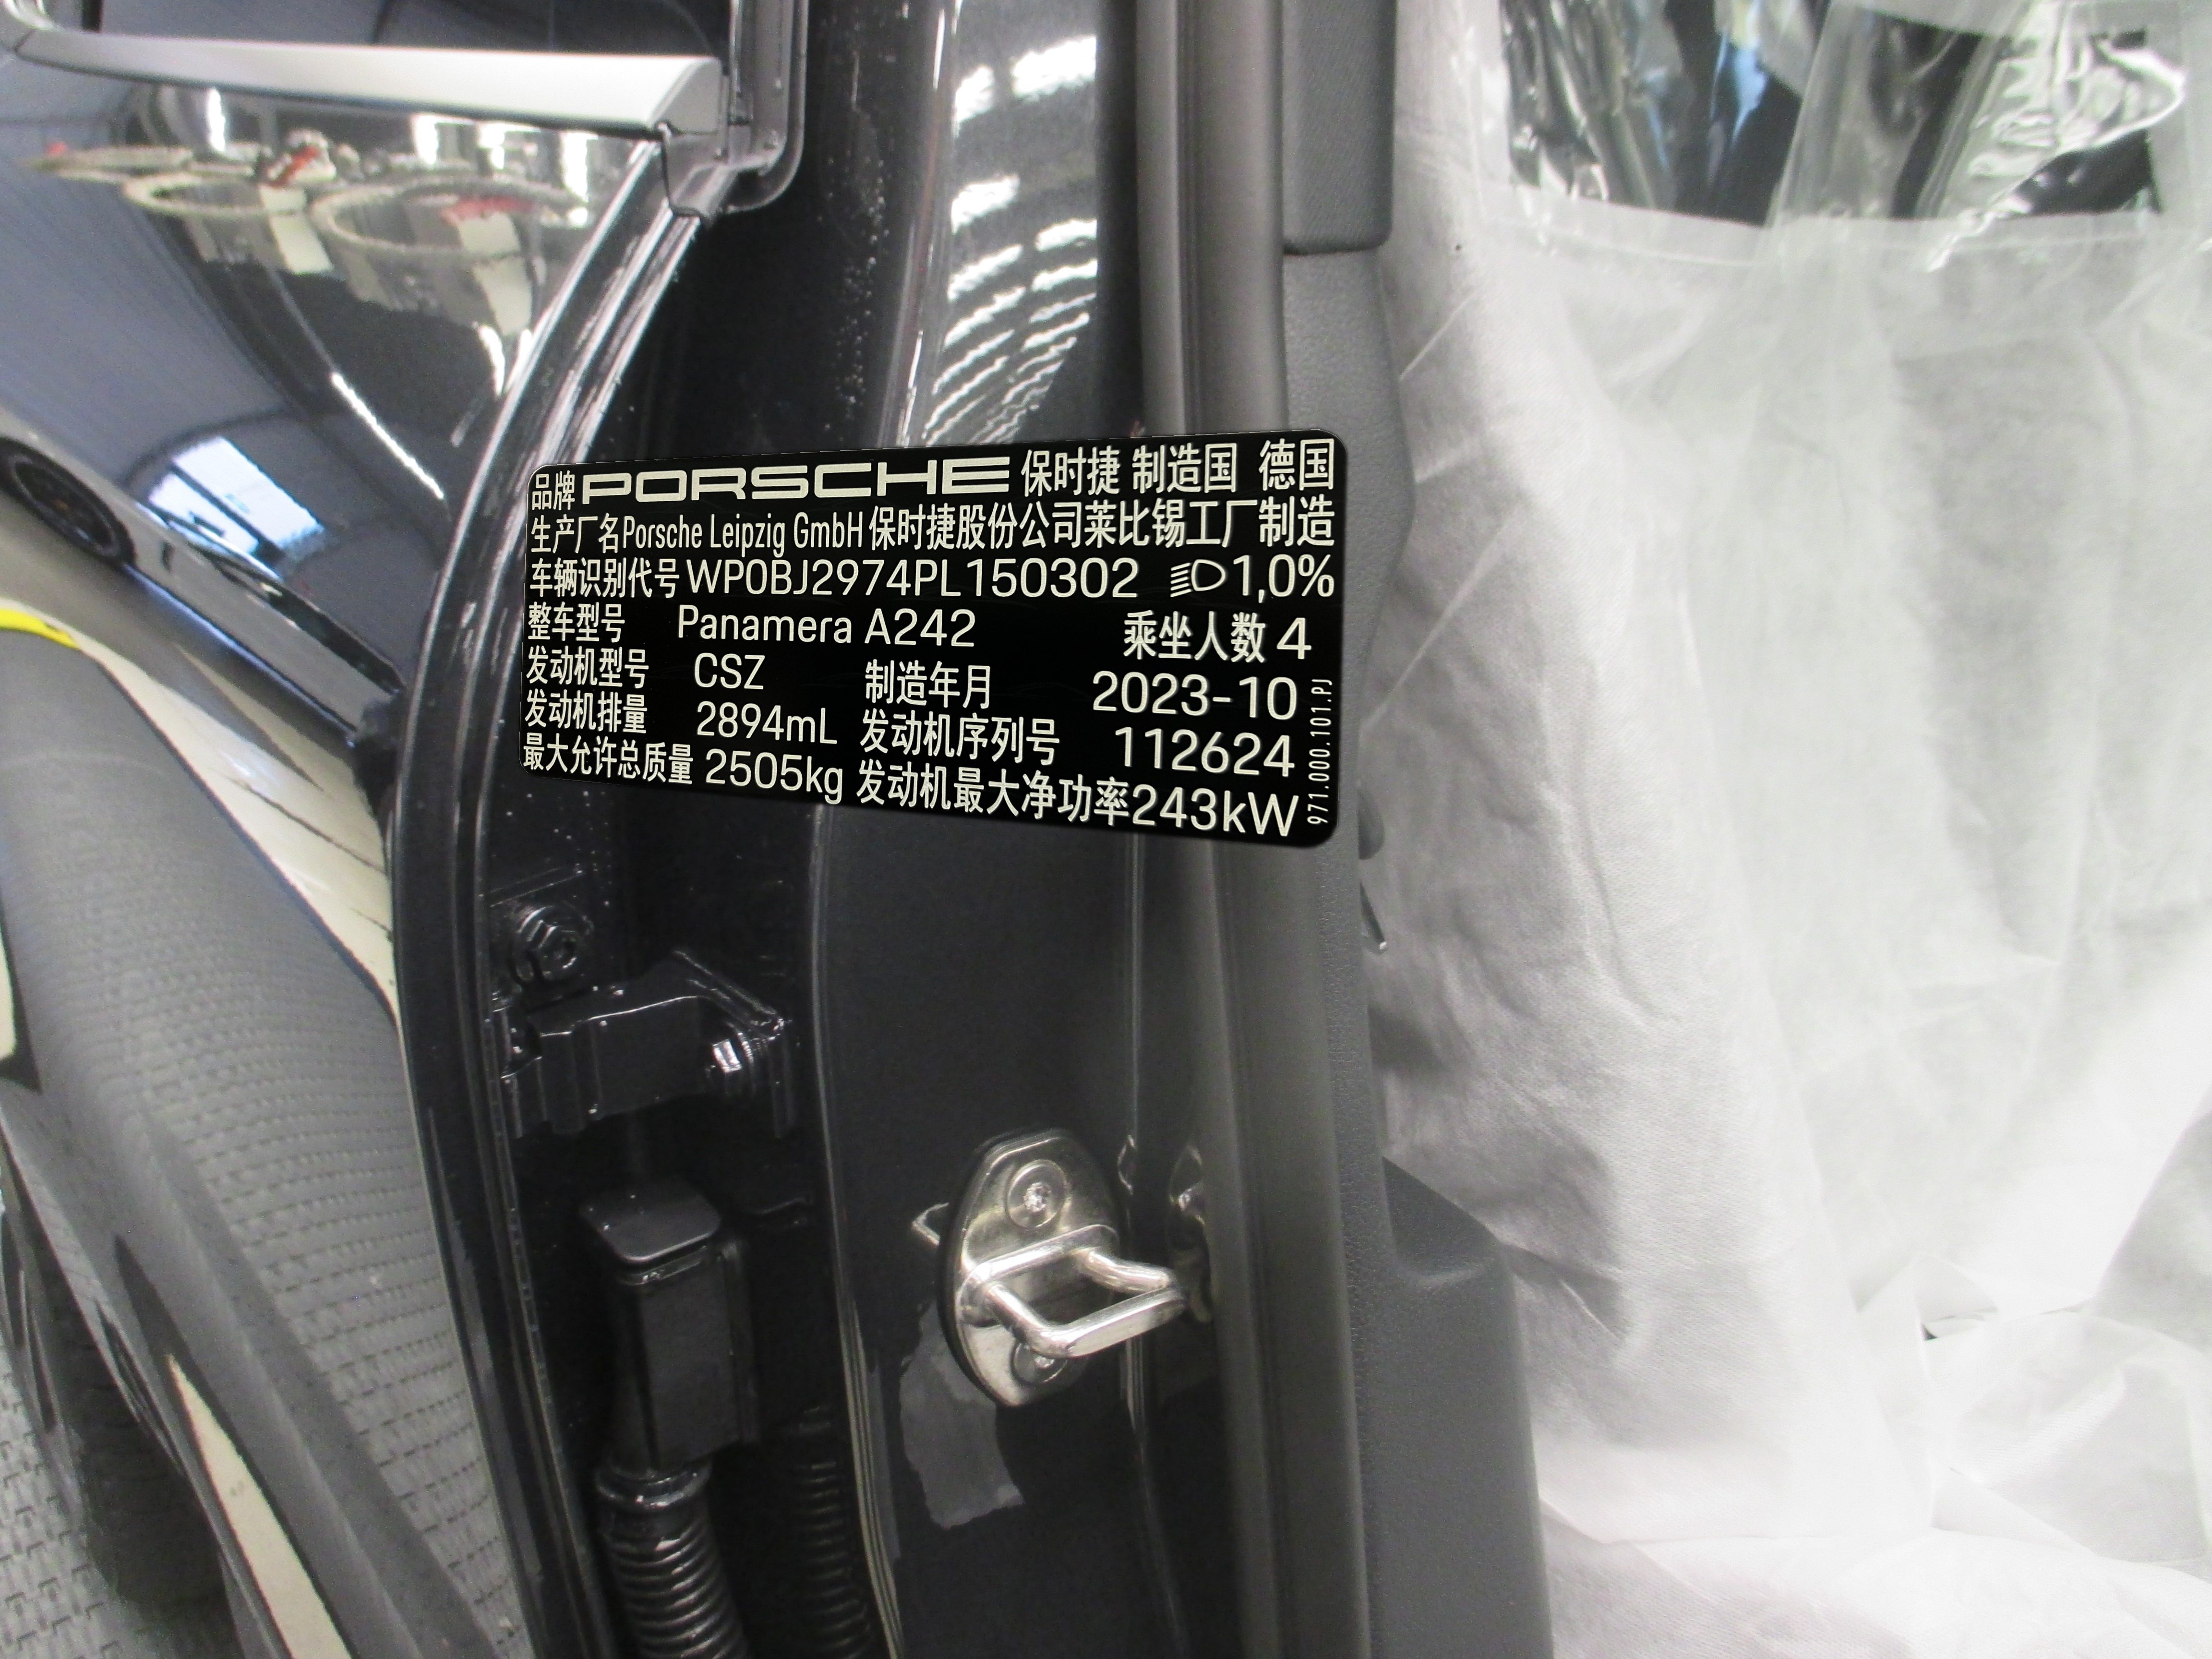Typlabel-China: (519, 429, 1346, 847)
